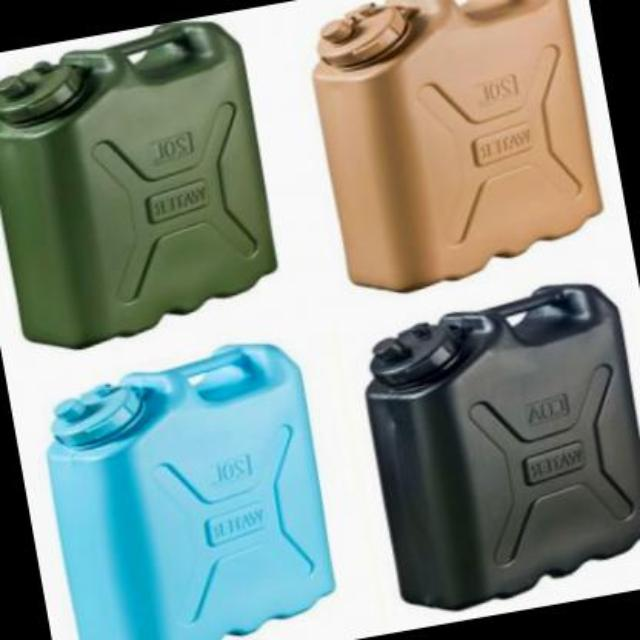chemical_plastic_gallon: (0, 8, 298, 368), (294, 1, 626, 308), (348, 273, 638, 623), (30, 326, 352, 638)
